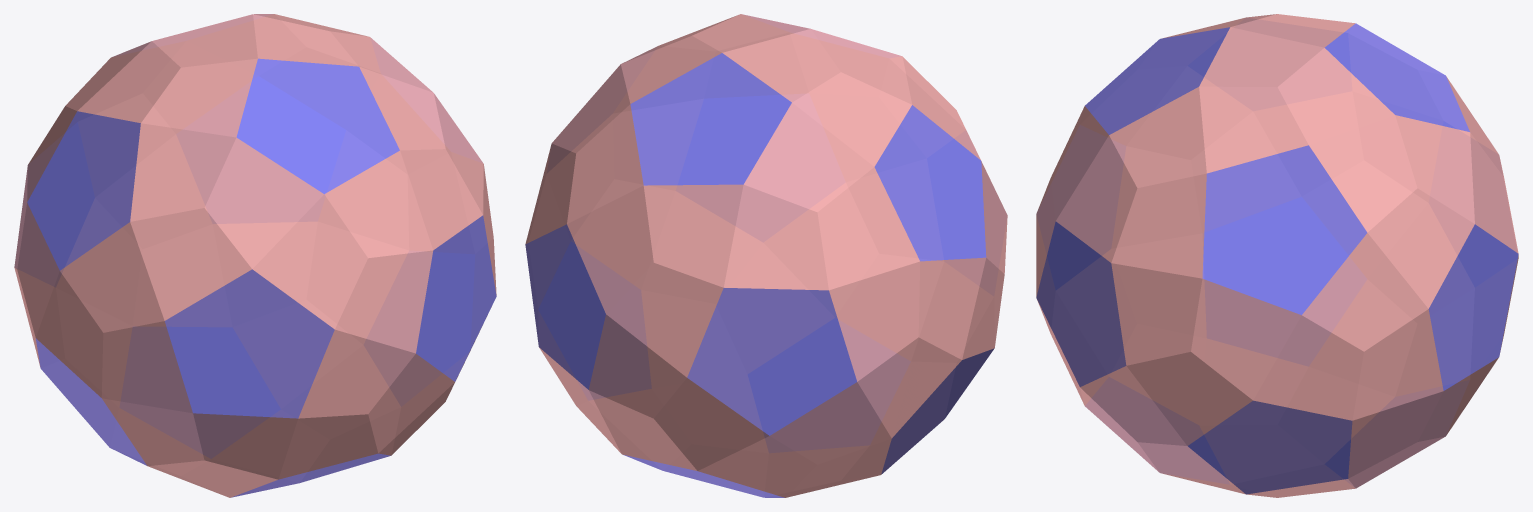
The model's file is PropellorDodecahedron.obj.
The picture shows the model from 3 angles, left to right: view 1: azimuth 30°, elevation 25°; view 2: azimuth 150°, elevation 25°; view 3: azimuth 270°, elevation 25°; orthographic projection.
Size of the model in its own units: 2 by 2 by 2.
